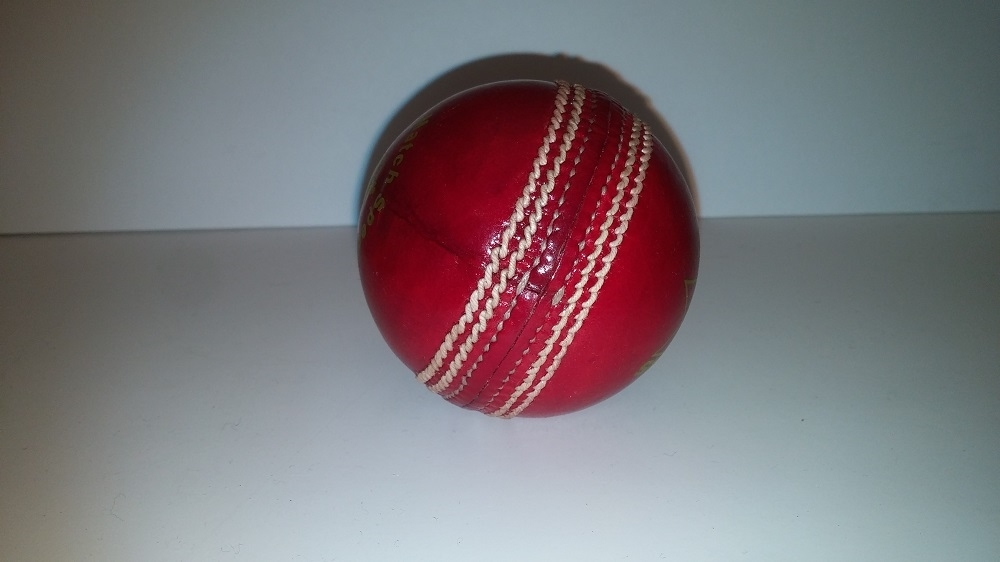red ball: (352, 79, 703, 423)
